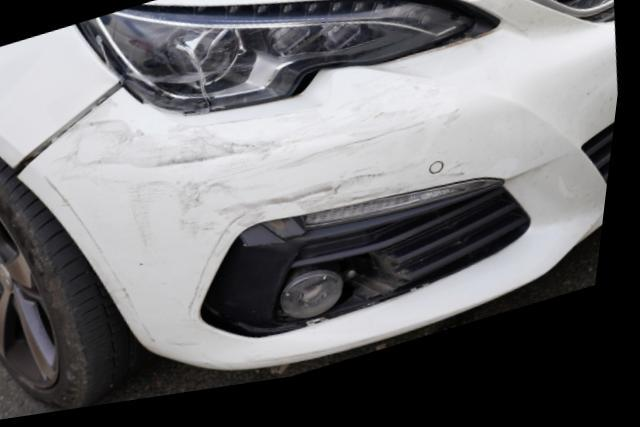lamp broken: (76, 7, 491, 122)
scratch: (49, 88, 459, 349)
